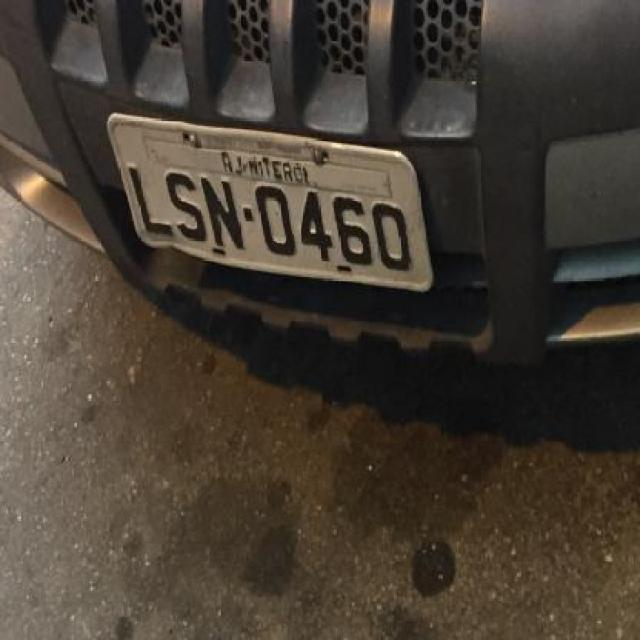old_plate: (102, 104, 442, 300)
